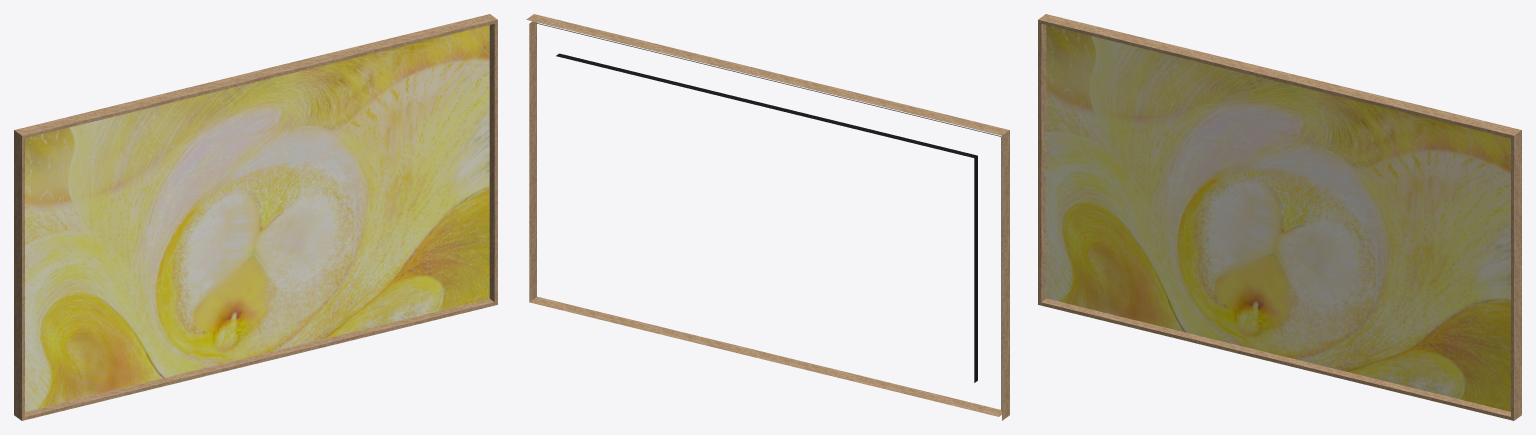
Rendered from hz010_grand_caisse-chene.glb.
The picture shows the model from 3 angles, left to right: view 1: azimuth 30°, elevation 25°; view 2: azimuth 150°, elevation 25°; view 3: azimuth 330°, elevation 25°; orthographic projection.
Visible parts, largest first — view 1: hz010_grand_caisse-chene; view 2: hz010_grand_caisse-chene; view 3: hz010_grand_caisse-chene.
Boxes of the visible parts, bbox=[...] form: hz010_grand_caisse-chene: bbox=[14, 14, 497, 420]; hz010_grand_caisse-chene: bbox=[526, 14, 1009, 420]; hz010_grand_caisse-chene: bbox=[1038, 14, 1521, 420].
Size of the model in its own units: 1.23 by 0.703 by 0.035.
Materials: 4 (2 with a texture image).
